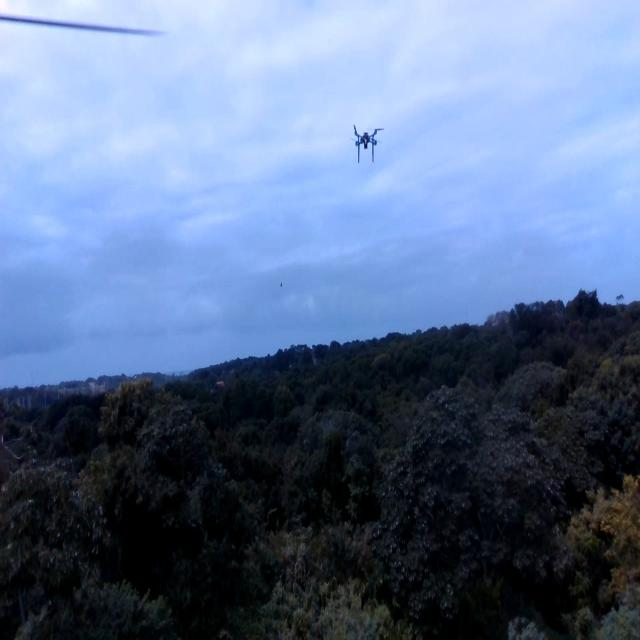-uav-: (346, 114, 388, 181)
